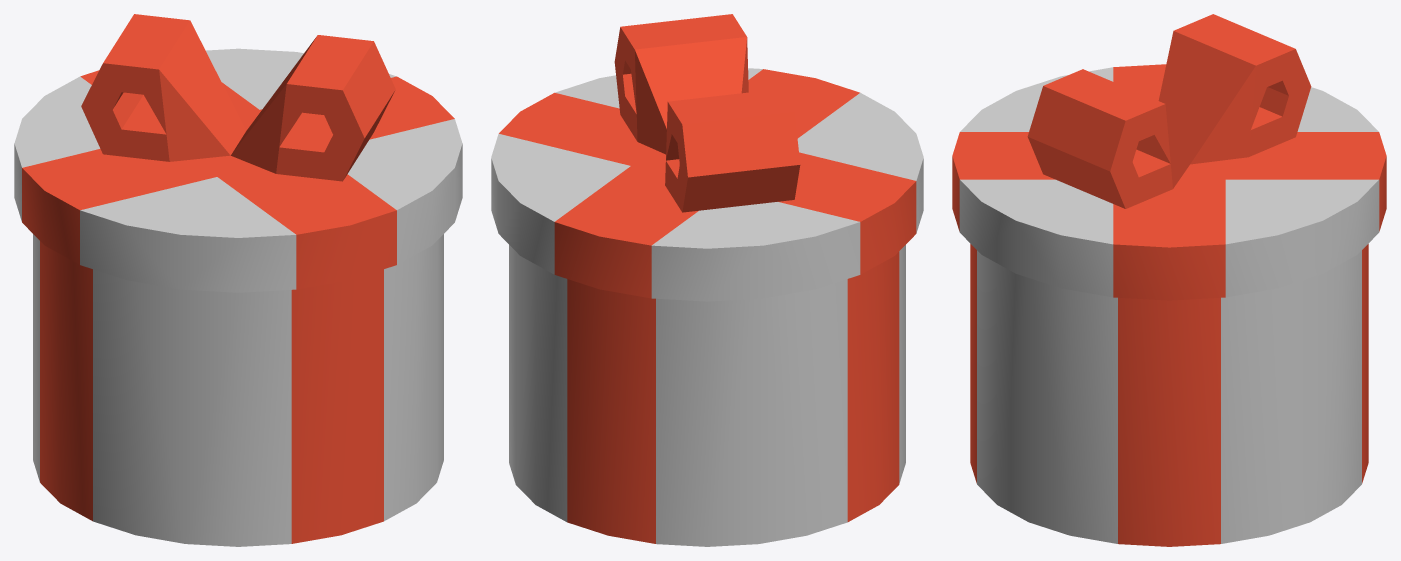
The model's file is presentRound.fbx.
3 renders of one model, left to right at view 1: azimuth 30°, elevation 25°; view 2: azimuth 150°, elevation 25°; view 3: azimuth 270°, elevation 25°, orthographic. The views are drawn at different scales.
Parts seen in each view (by area): view 1: Group 46, lid 2, Group 44; view 2: Group 46, lid 2, Group 44; view 3: Group 46, lid 2, Group 44.
Part boxes in pixels (x1,y1,x2,y2): Group 46: (33, 234, 443, 546); lid 2: (14, 48, 462, 292); Group 44: (81, 14, 395, 181); Group 46: (509, 245, 905, 546); lid 2: (491, 68, 923, 301); Group 44: (614, 14, 800, 212); Group 46: (970, 244, 1368, 546); lid 2: (952, 64, 1386, 300); Group 44: (1027, 14, 1311, 208).
Size of the model in its own units: 3.61 by 3.63 by 3.61.
